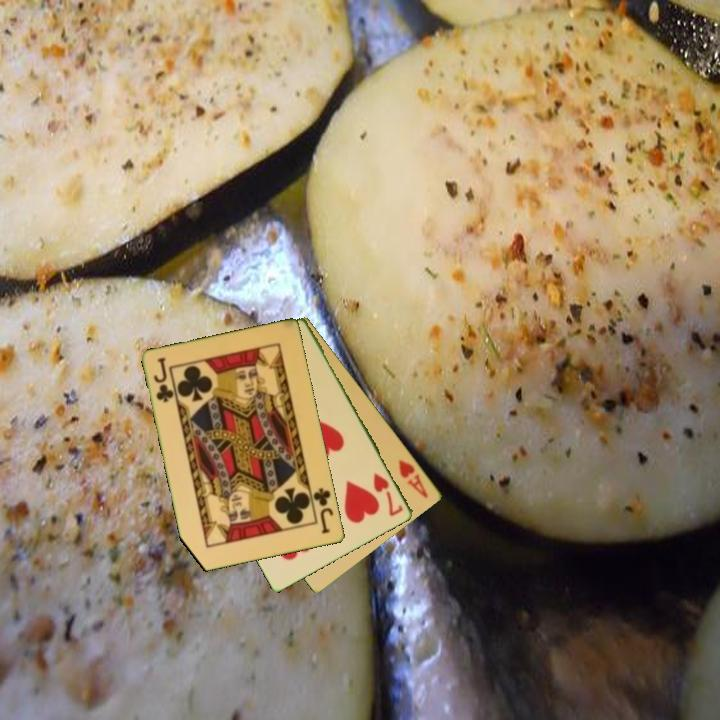7h: (370, 469, 406, 520)
Ah: (395, 456, 431, 501)
Jc: (310, 484, 337, 537), (151, 354, 176, 406)
